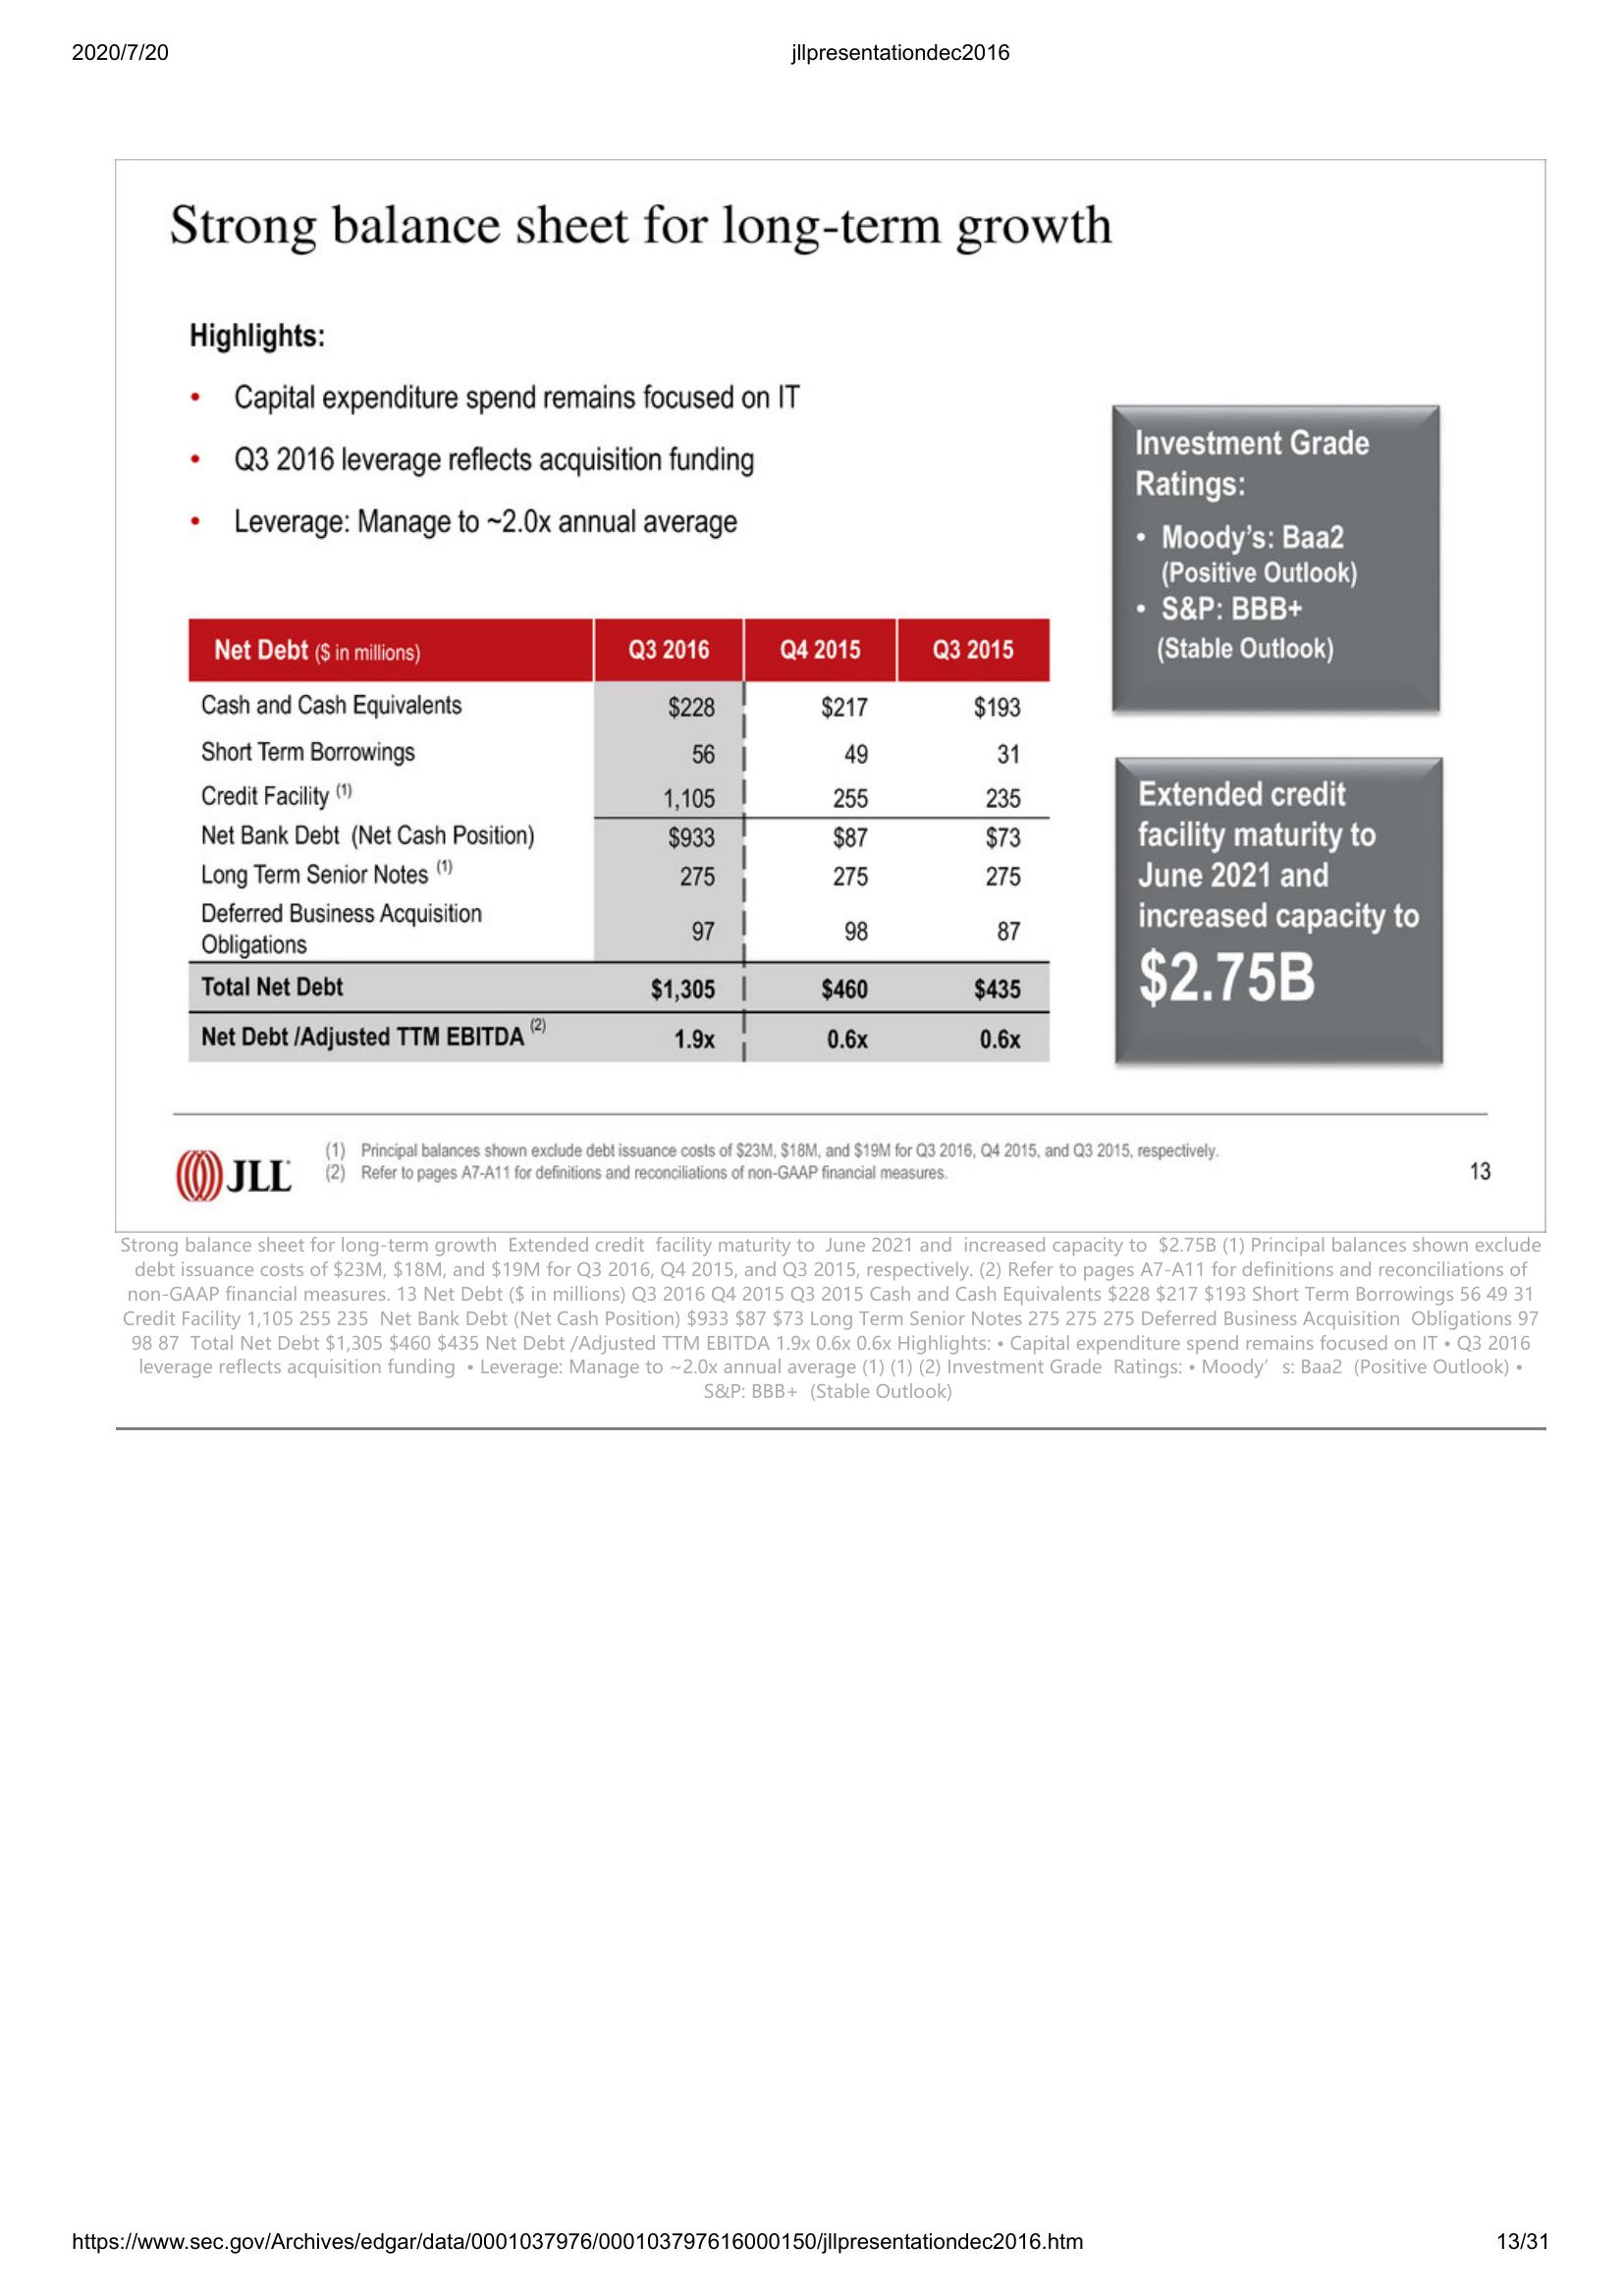table: (179, 614, 1059, 1067)
